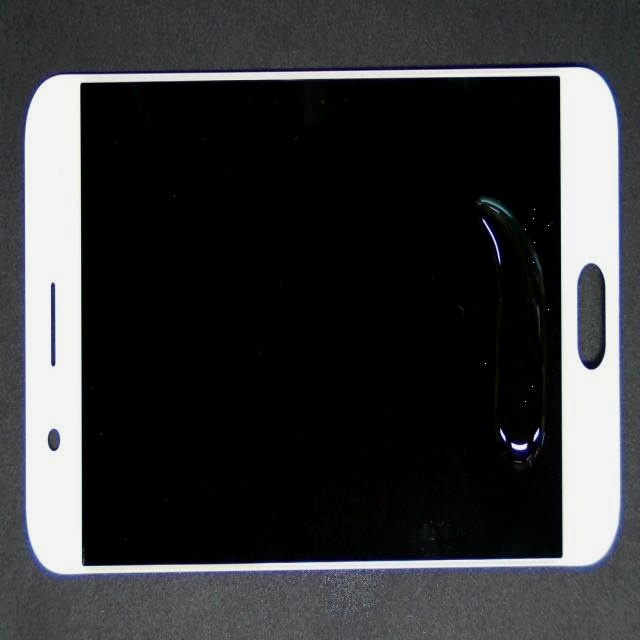oil: (240, 80, 640, 319)
